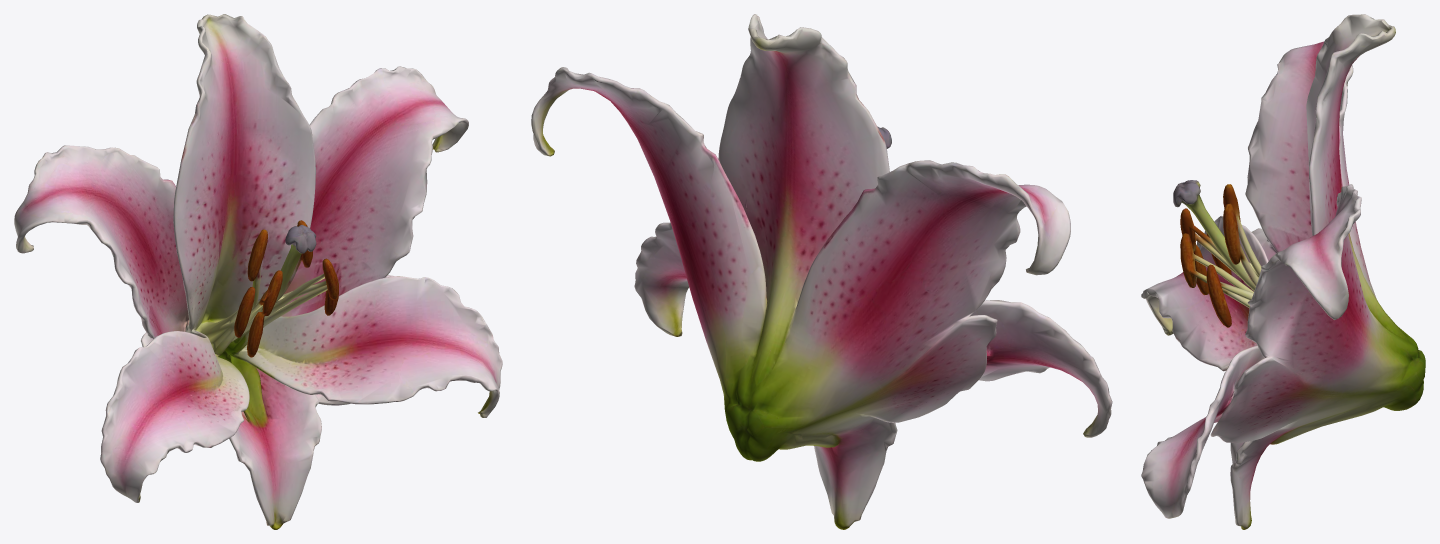
File: fl-flower-lily-oriental.glb
3 renders of one model, left to right at view 1: azimuth 30°, elevation 25°; view 2: azimuth 150°, elevation 25°; view 3: azimuth 270°, elevation 25°, orthographic. The views are drawn at different scales.
Visible parts, largest first — view 1: node_0; view 2: node_0; view 3: node_0.
Part boxes in pixels (x1=…): node_0: x1=14, y1=14, x2=502, y2=529; node_0: x1=531, y1=14, x2=1112, y2=529; node_0: x1=1141, y1=14, x2=1425, y2=529.
Size of the model in its own units: 1.11 by 1.11 by 0.5647.
1 material, 1 textured.
